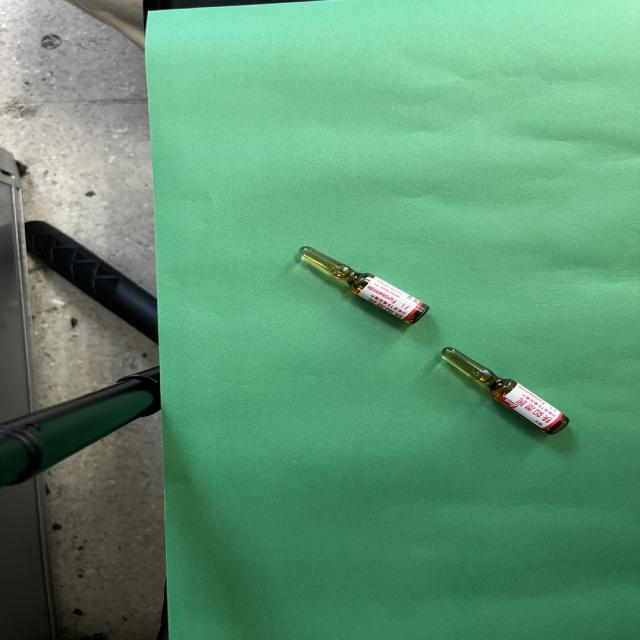Ampoules: (442, 348, 569, 434), (299, 246, 429, 324)
